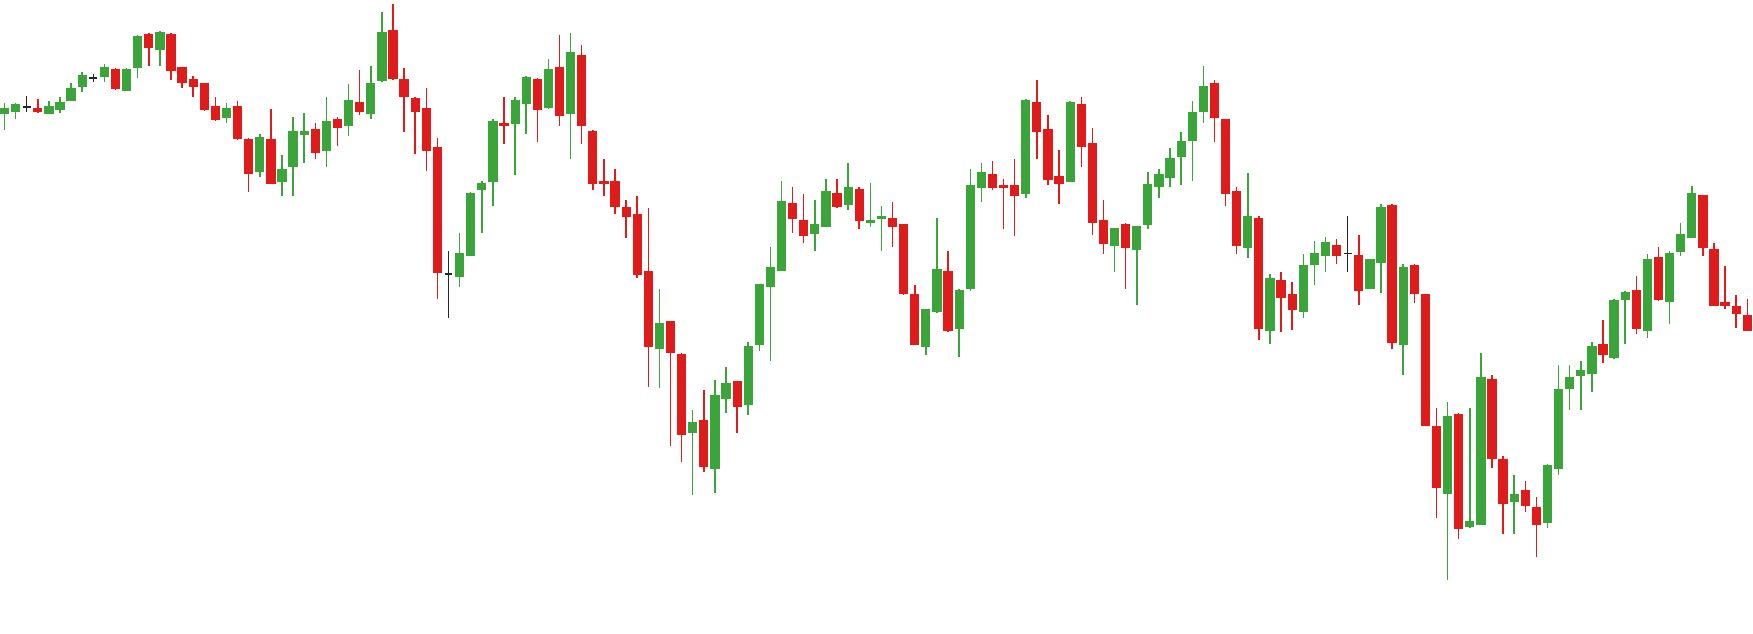sell: (1063, 67, 1220, 176)
